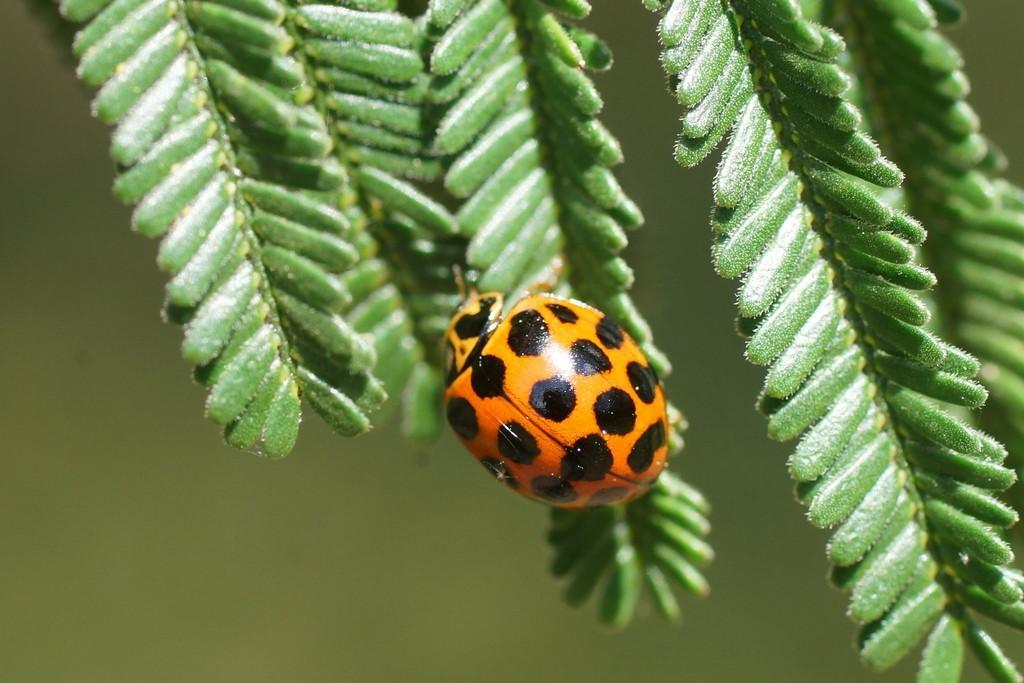ladybug: (437, 261, 671, 513)
